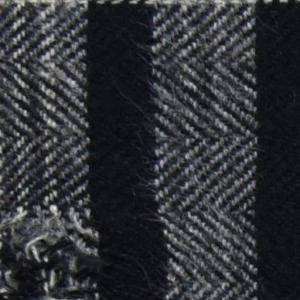Damage: (1, 203, 118, 300)
